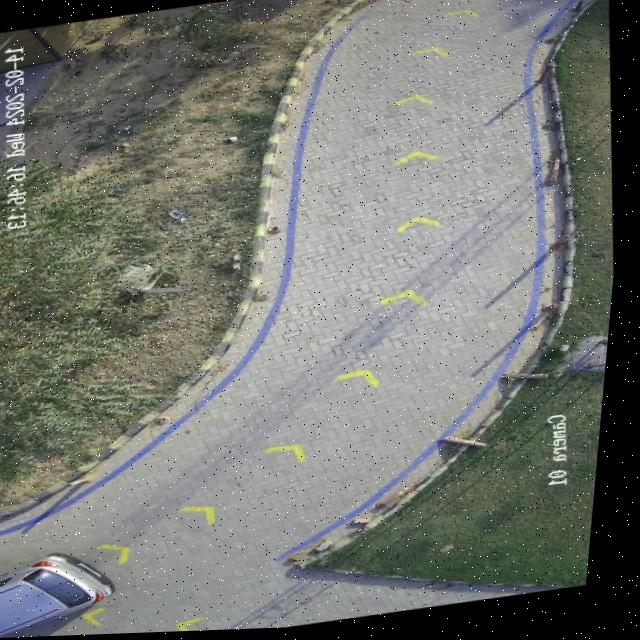car: (0, 553, 124, 639)
